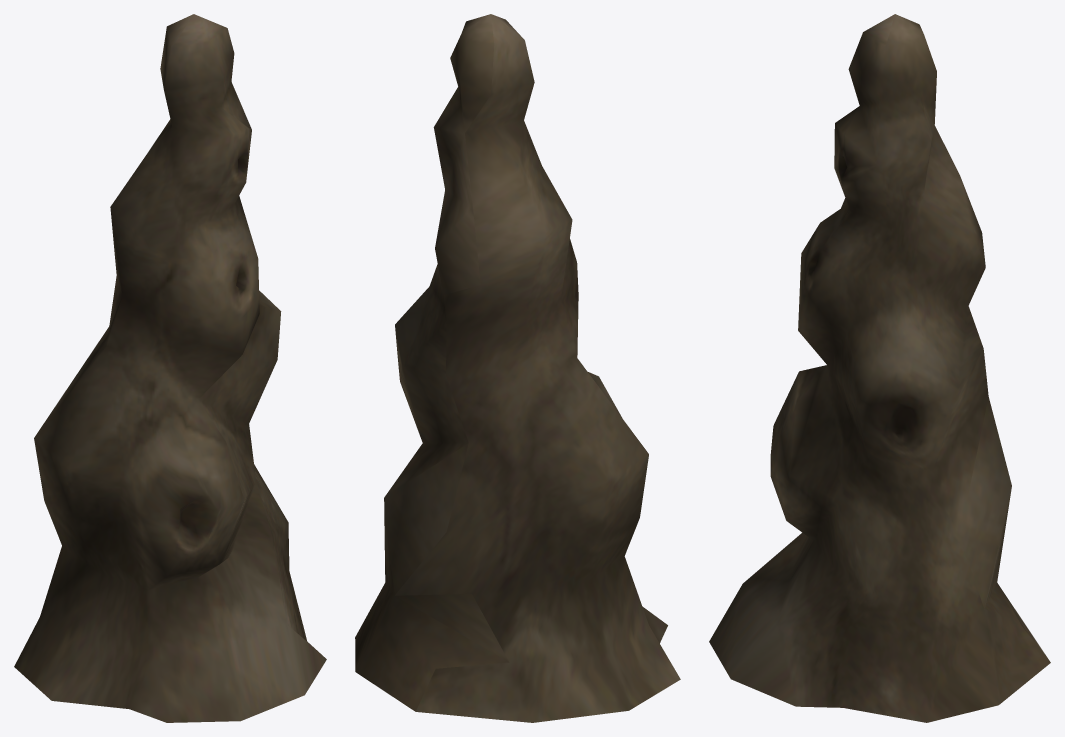
Rendered from nashgar_object_ant_tunnel_02.FBX.
3 views of the same model, side by side, from view 1: azimuth 30°, elevation 25°; view 2: azimuth 150°, elevation 25°; view 3: azimuth 270°, elevation 25° (orthographic). The views are drawn at different scales.
Visible parts, largest first — view 1: nashgar_object_ant_tunnel_02; view 2: nashgar_object_ant_tunnel_02; view 3: nashgar_object_ant_tunnel_02.
Boxes of the visible parts, box(x1,y1,x2,y2) form: nashgar_object_ant_tunnel_02: box(14, 14, 326, 722); nashgar_object_ant_tunnel_02: box(355, 14, 680, 722); nashgar_object_ant_tunnel_02: box(709, 14, 1050, 722).
Bounding box in the file's own units: 1.22 × 2.61 × 1.24.
